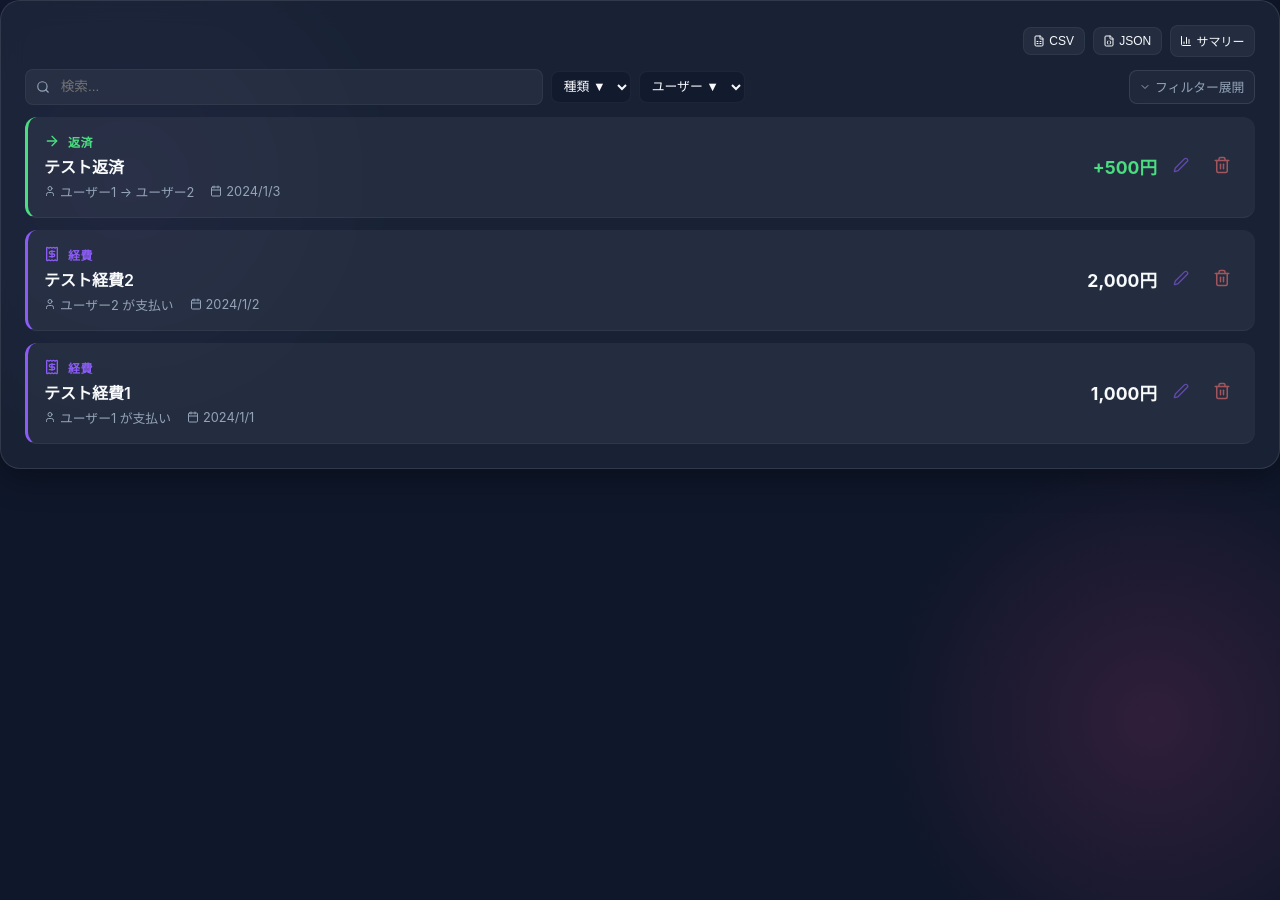
Test: TransactionList Component › 編集フォームでキャンセルボタンをクリックすると編集モードが終了する
Click the button named "編集" in the row of "500": (1181, 167) [1165,149,1197,184]
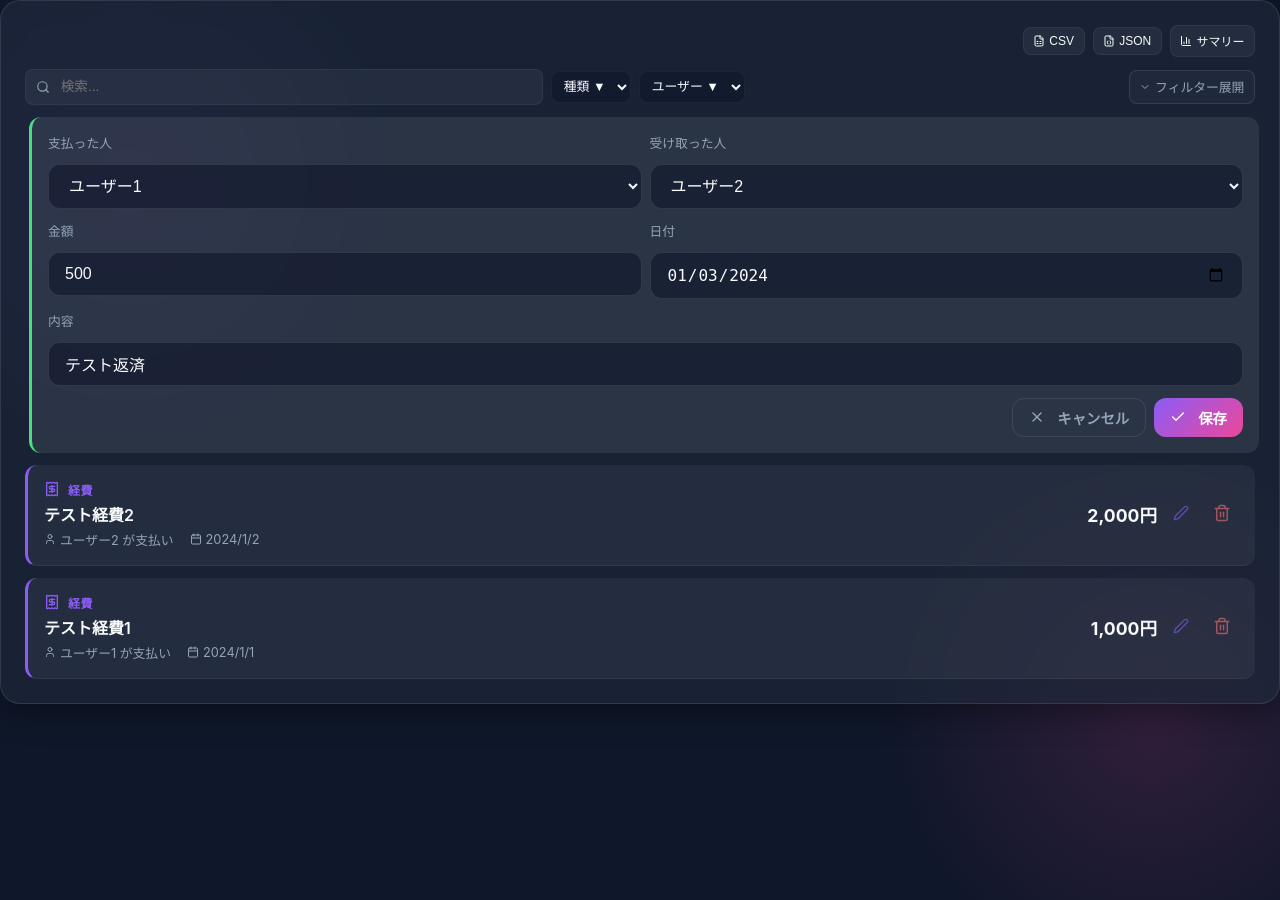
Check: the button "キャンセル" is shown
Note: Click cancel button
Click the button "キャンセル": (1079, 417) [1012,398,1146,437]
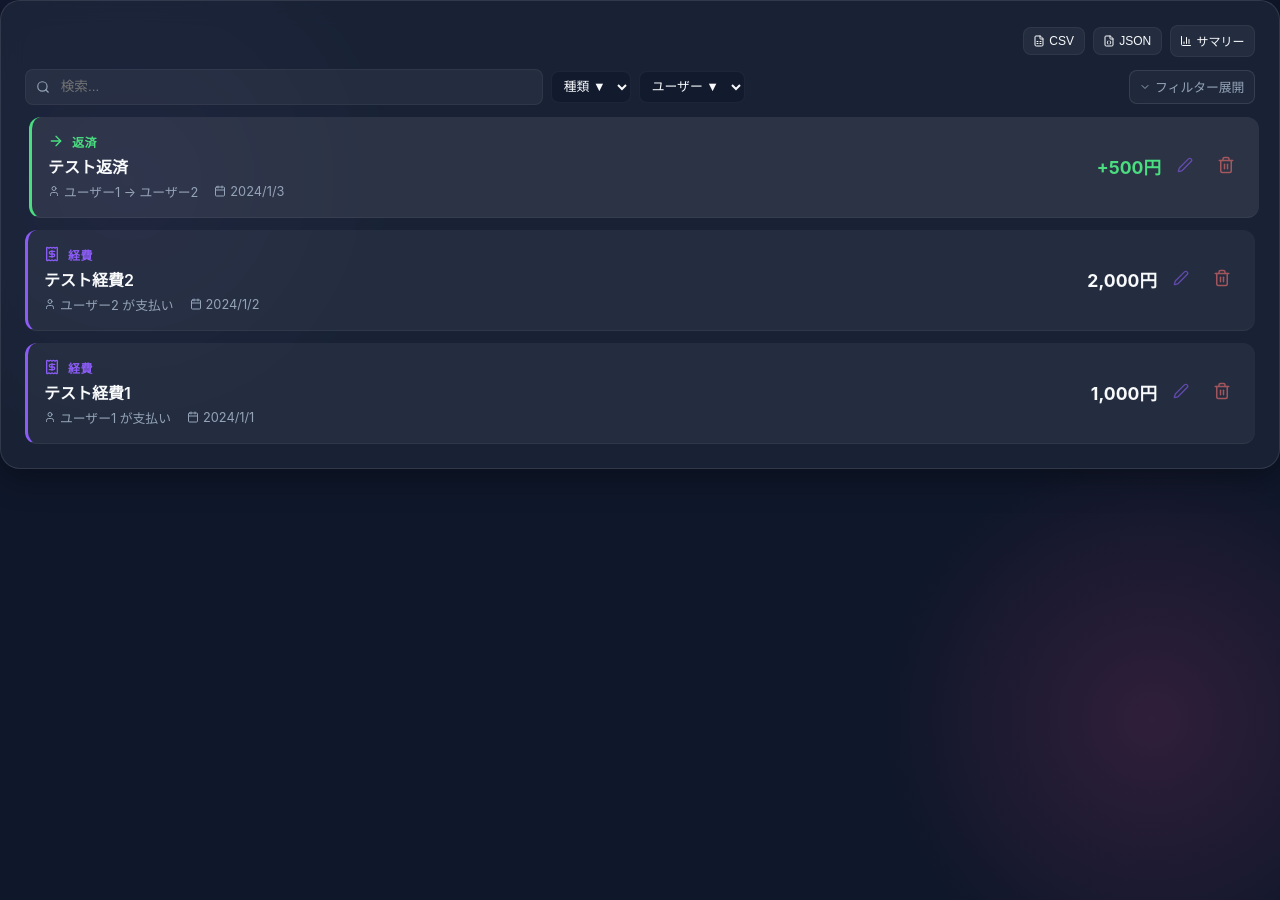
Check: the button "保存" is gone
